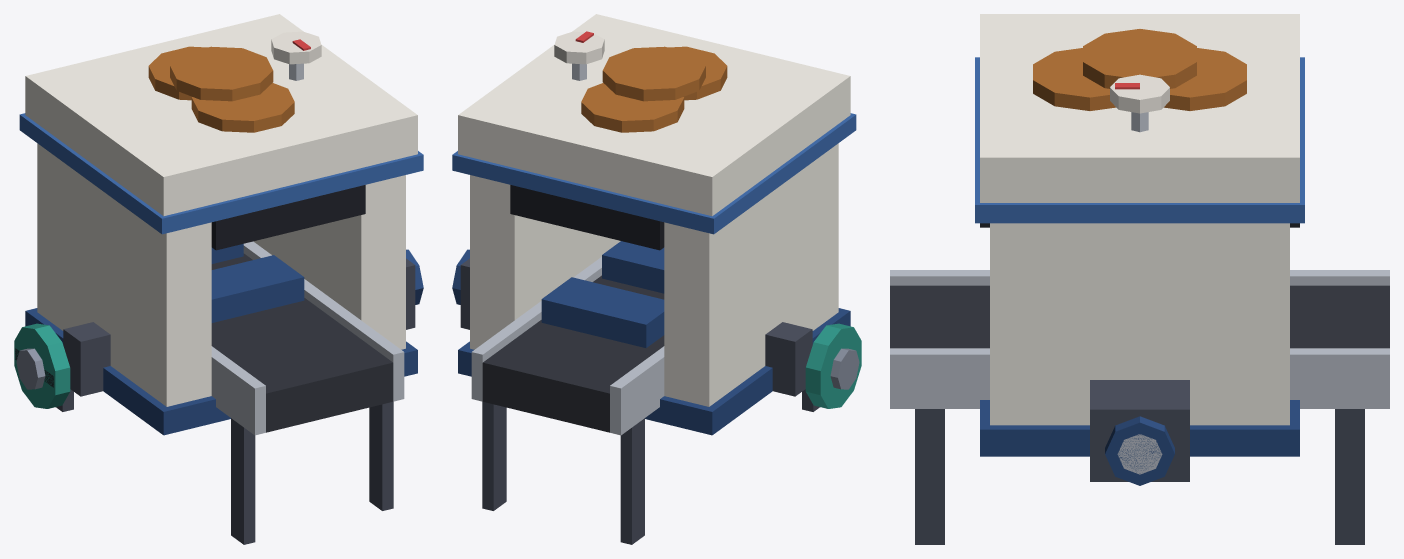
The model's file is pasteurizer-right.glb.
The picture shows the model from 3 angles, left to right: view 1: azimuth 30°, elevation 25°; view 2: azimuth 150°, elevation 25°; view 3: azimuth 270°, elevation 25°; orthographic projection. The views are drawn at different scales.
Visible parts, largest first — view 1: pasteurizer-right, spin-x; view 2: pasteurizer-right, spin-x; view 3: pasteurizer-right.
Part boxes in pixels (x1,y1,x2,y2): pasteurizer-right: (19,14,423,544); spin-x: (14,323,70,408); pasteurizer-right: (452,14,856,544); spin-x: (805,323,861,408); pasteurizer-right: (890,14,1389,544).
Size of the model in its own units: 1.02 by 1.01 by 1.
Materials: 2 (2 with a texture image).
